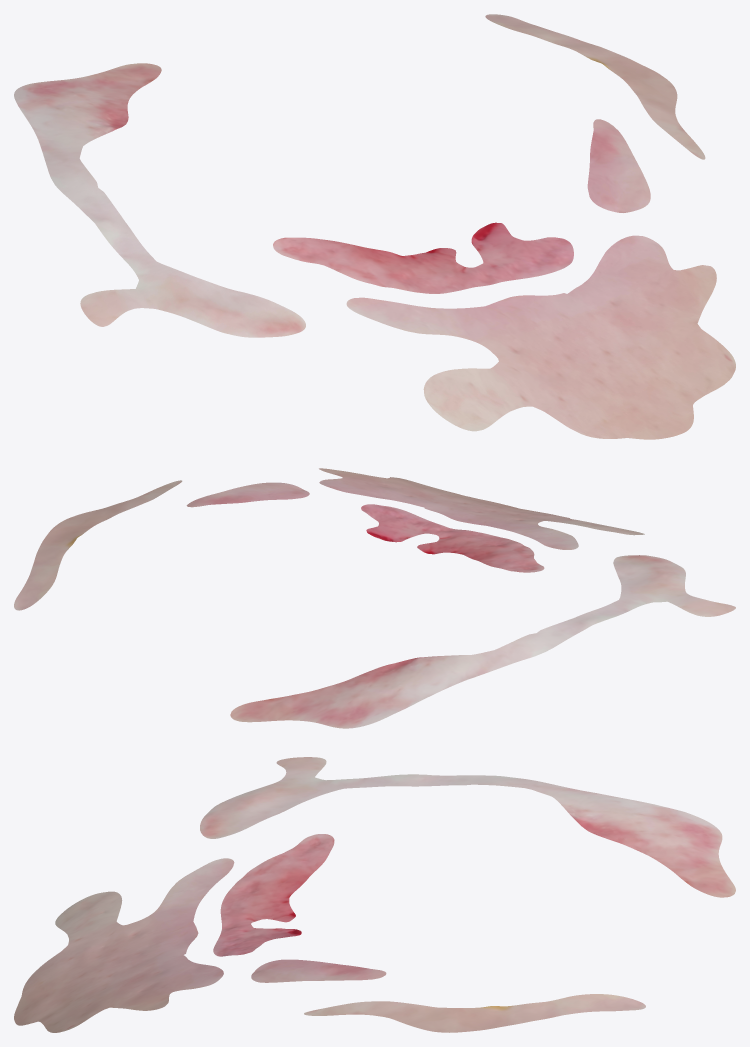
The model's file is StomaMaceracijaCeliulitas.fbx.
3 views of the same model, one above another, from view 1: azimuth 30°, elevation 25°; view 2: azimuth 150°, elevation 25°; view 3: azimuth 270°, elevation 25° (orthographic). The views are drawn at different scales.
Visible parts, largest first — view 1: StomaMaceracijaCeliulitas; view 2: StomaMaceracijaCeliulitas; view 3: StomaMaceracijaCeliulitas.
Boxes of the visible parts, x1,y1,x2,y2 form: StomaMaceracijaCeliulitas: (14, 14, 735, 439); StomaMaceracijaCeliulitas: (14, 468, 735, 728); StomaMaceracijaCeliulitas: (14, 757, 735, 1032).
Size of the model in its own units: 178 by 32.25 by 194.
1 material, 1 textured.
